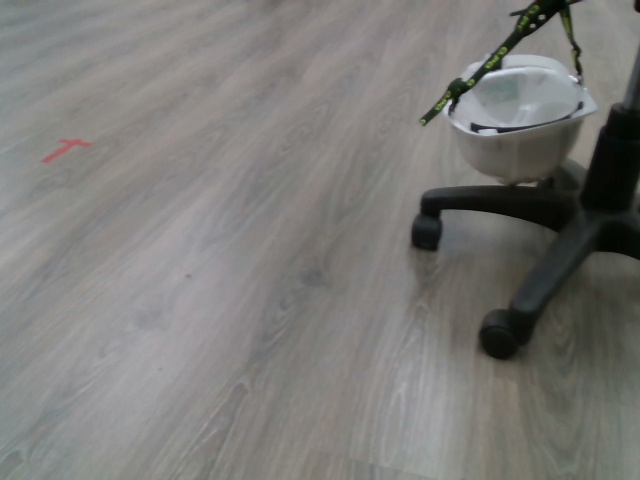helmet: (440, 52, 598, 187)
